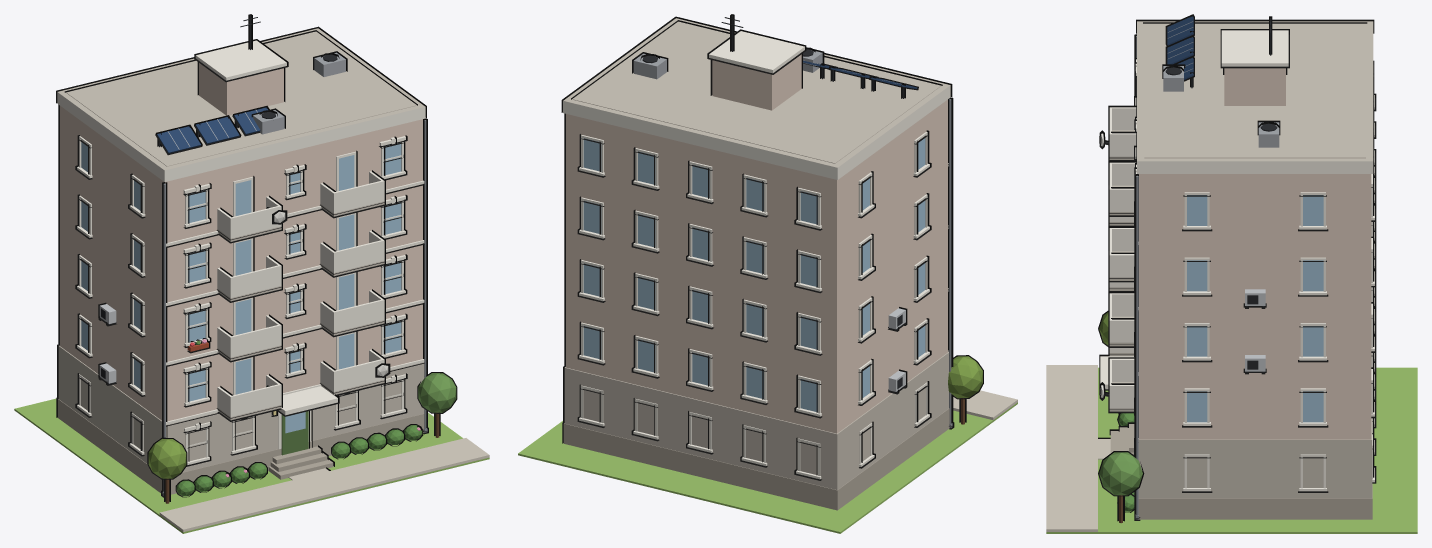
File: Apartman_2_3.fbx
The picture shows the model from 3 angles, left to right: view 1: azimuth 30°, elevation 25°; view 2: azimuth 150°, elevation 25°; view 3: azimuth 270°, elevation 25°; orthographic projection. The views are drawn at different scales.
Parts seen in each view (by area): view 1: Apartman_2_3; view 2: Apartman_2_3; view 3: Apartman_2_3.
Boxes of the visible parts, left/top/right/bottom form: Apartman_2_3: left=14, top=14, right=489, bottom=533; Apartman_2_3: left=518, top=14, right=1017, bottom=533; Apartman_2_3: left=1046, top=14, right=1417, bottom=533.
Size of the model in its own units: 15.1 by 18.98 by 14.4.
